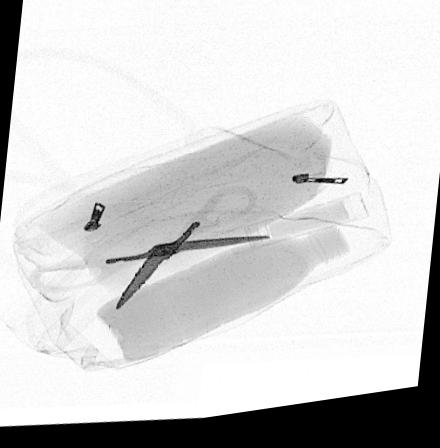Scissors: (26, 190, 273, 313)
